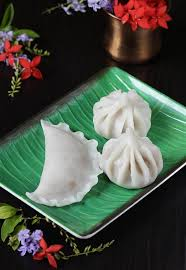modak: (85, 85, 167, 141), (94, 126, 169, 184)
